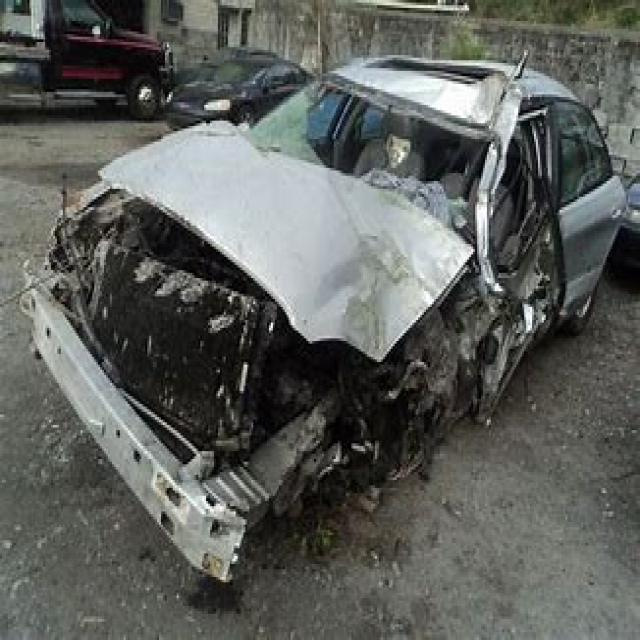Accident: (13, 72, 640, 626)
